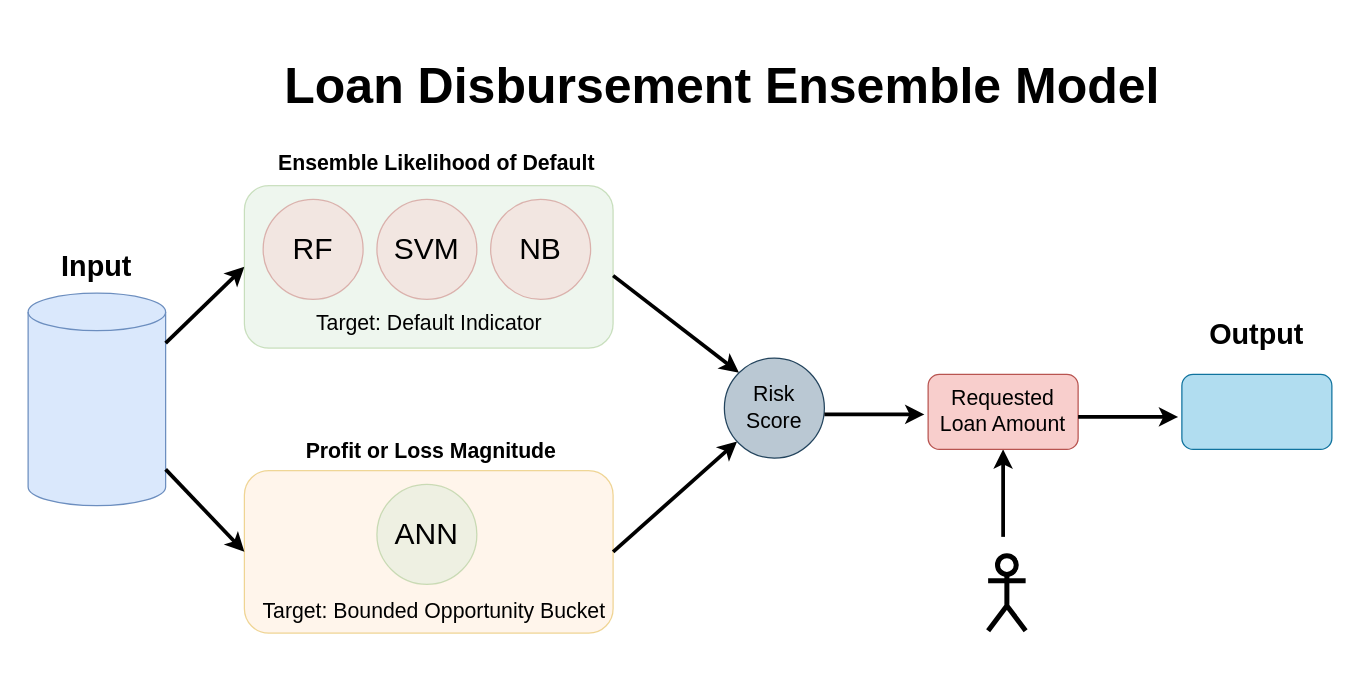
Image size: 1354x685. Some labels were removed from this diagram. The shapes that lost their labels are listed below. From the top down, each one's centre as x and y in pixels, then its label:
the point at 96,399: Borrower Data
the point at 1256,411: Principal Disbursed
the point at 1006,592: Borrower
